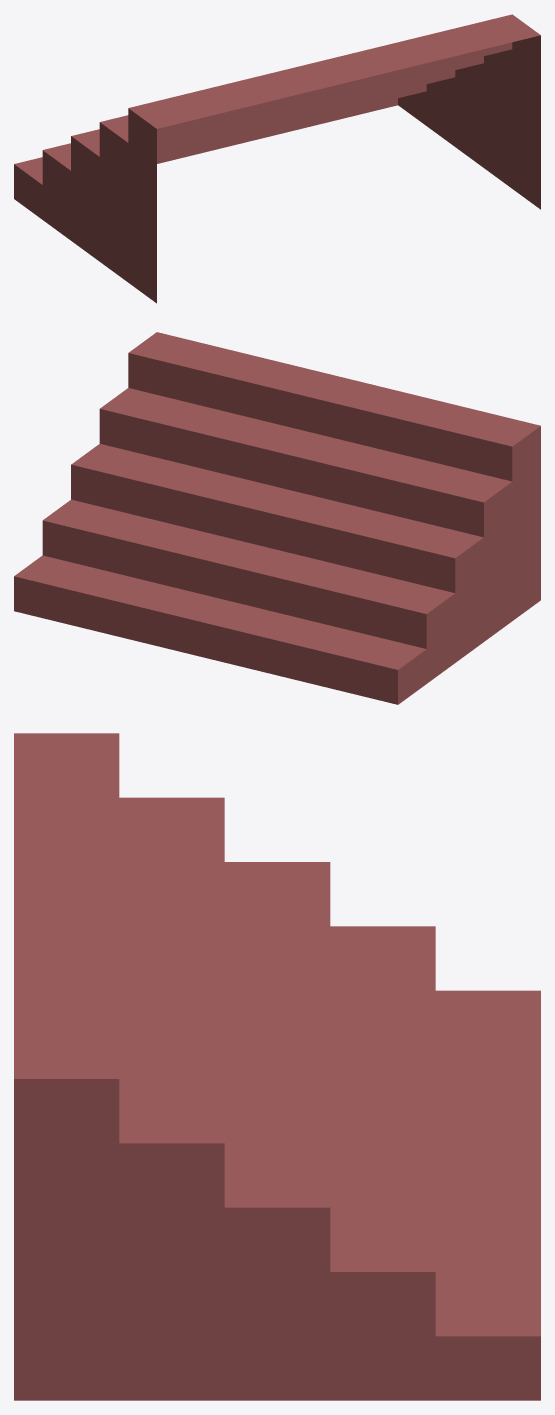
Rendered from Stairs.fbx.
3 views of the same model, one above another, from view 1: azimuth 30°, elevation 25°; view 2: azimuth 150°, elevation 25°; view 3: azimuth 270°, elevation 25° (orthographic). The views are drawn at different scales.
Parts seen in each view (by area): view 1: Stairs; view 2: Stairs; view 3: Stairs.
Boxes of the visible parts, box(x1,y1,x2,y2) form: Stairs: box(14, 14, 540, 303); Stairs: box(14, 332, 540, 704); Stairs: box(14, 733, 540, 1400).
Size of the model in its own units: 258 by 112 by 166.
